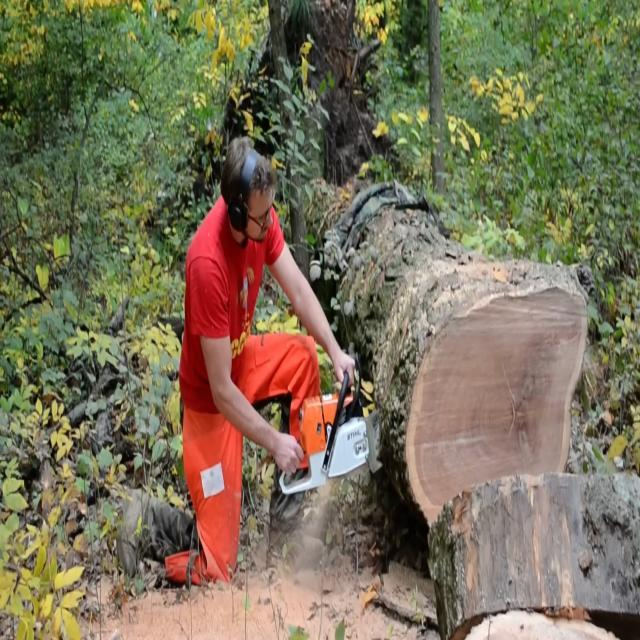Chainsaw: (262, 344, 402, 504)
